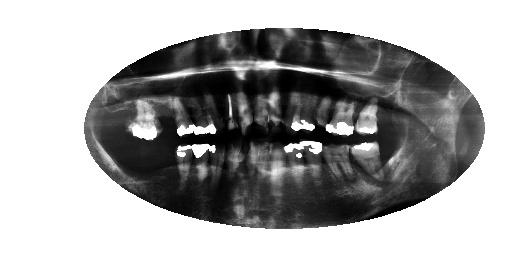Cavity: (236, 87, 254, 133), (254, 89, 271, 135), (270, 87, 286, 134)
Fillings: (290, 86, 316, 133), (130, 98, 156, 143), (327, 98, 356, 137), (301, 140, 324, 188), (194, 143, 214, 191), (285, 140, 305, 186), (172, 98, 195, 138), (174, 142, 193, 189), (193, 102, 217, 136)
